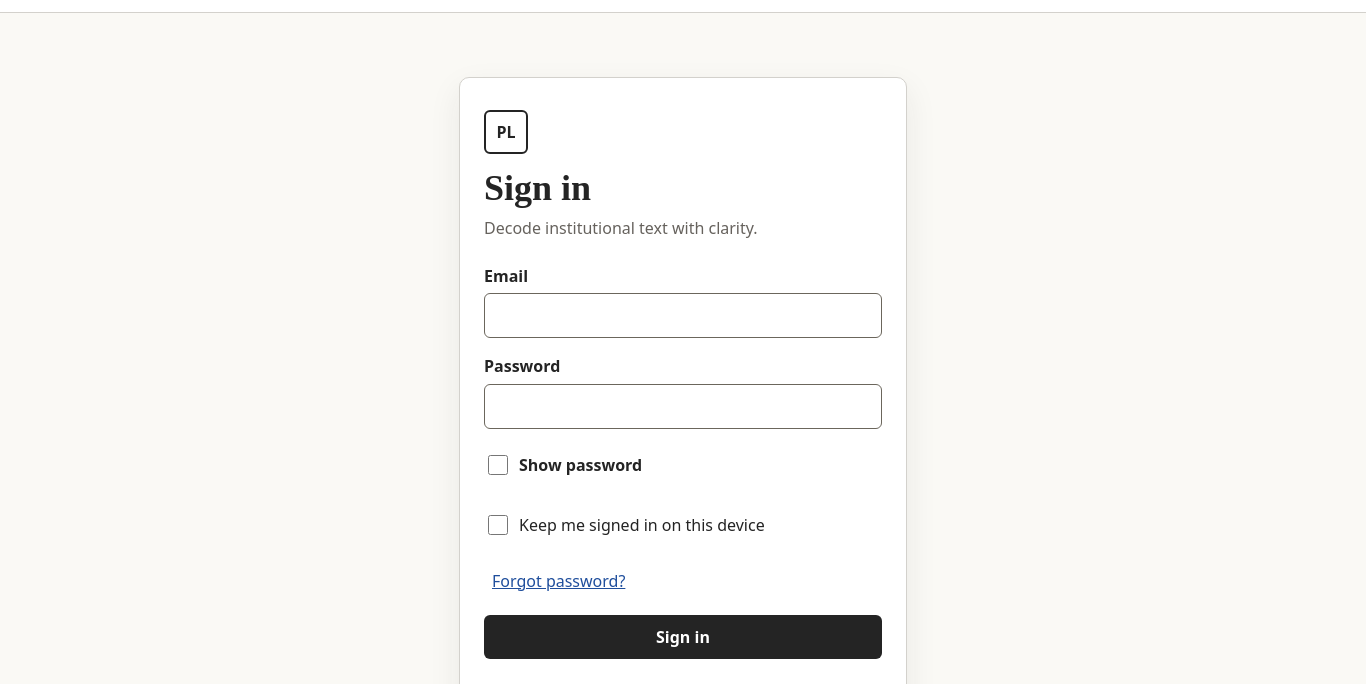
Test: sign in (screen 01) › server down while signing in: a clear, translated error (not a crash)
Type "ana@example.com" into the field labelled "Email" at (683, 316), box [484,293,882,338]
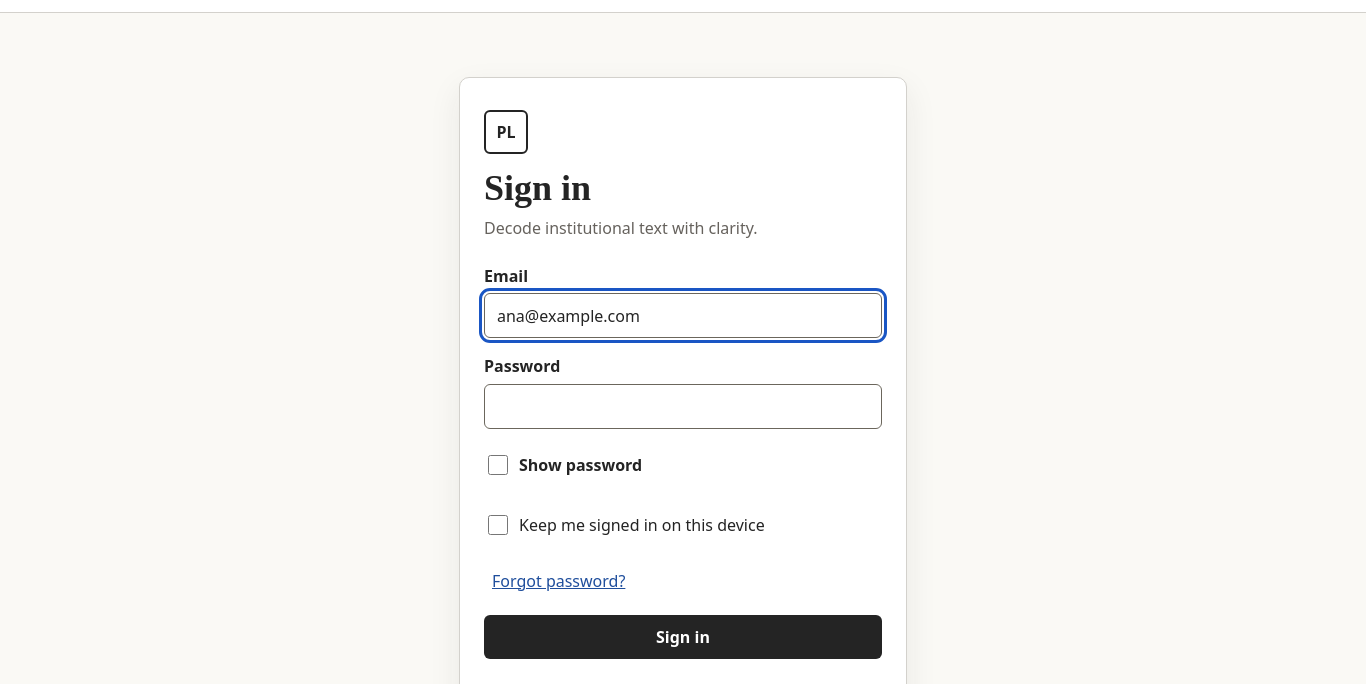
Type "correct horse" into the password field labelled "Password" at (683, 407), box [484,384,882,429]
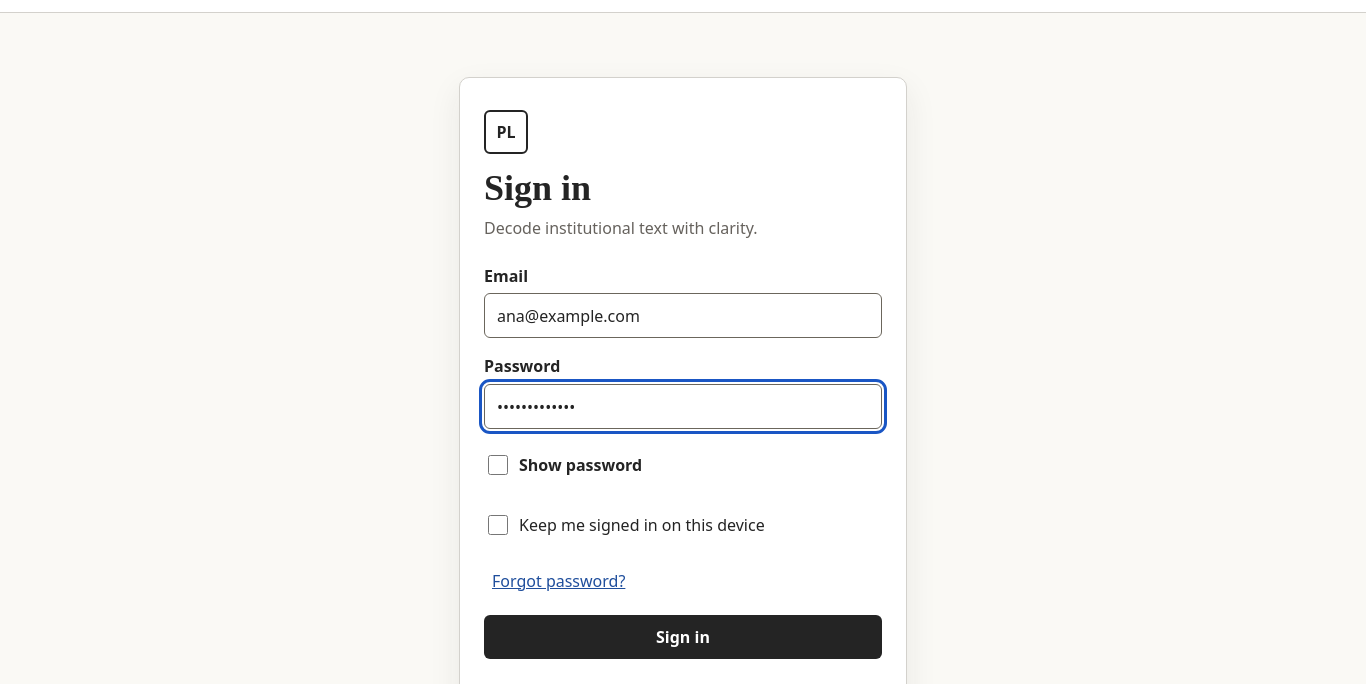
Click the button "Sign in" at (683, 637), box [484,615,882,659]
(page scrolled)
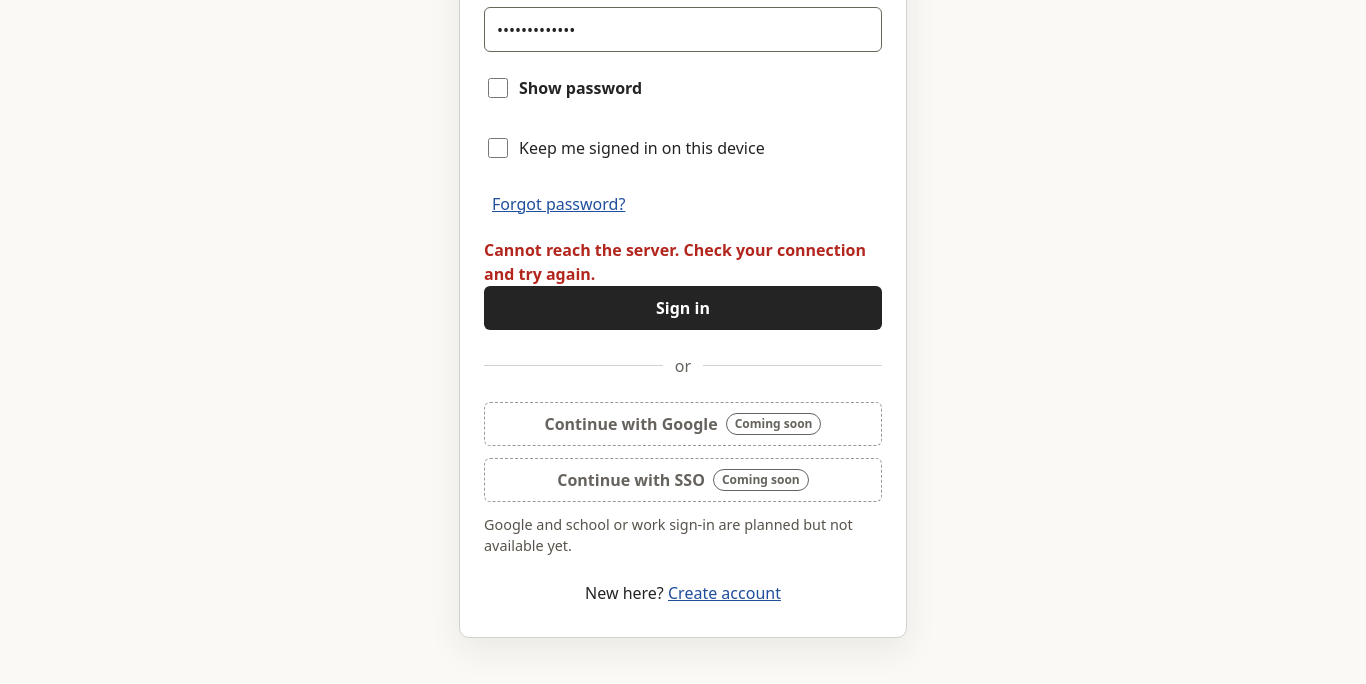
Expected: the button "Sign in" is enabled, [484,286,882,330]
Expected: the message reads "Cannot reach the server. Check your connection and try again.", [484,239,866,285]
